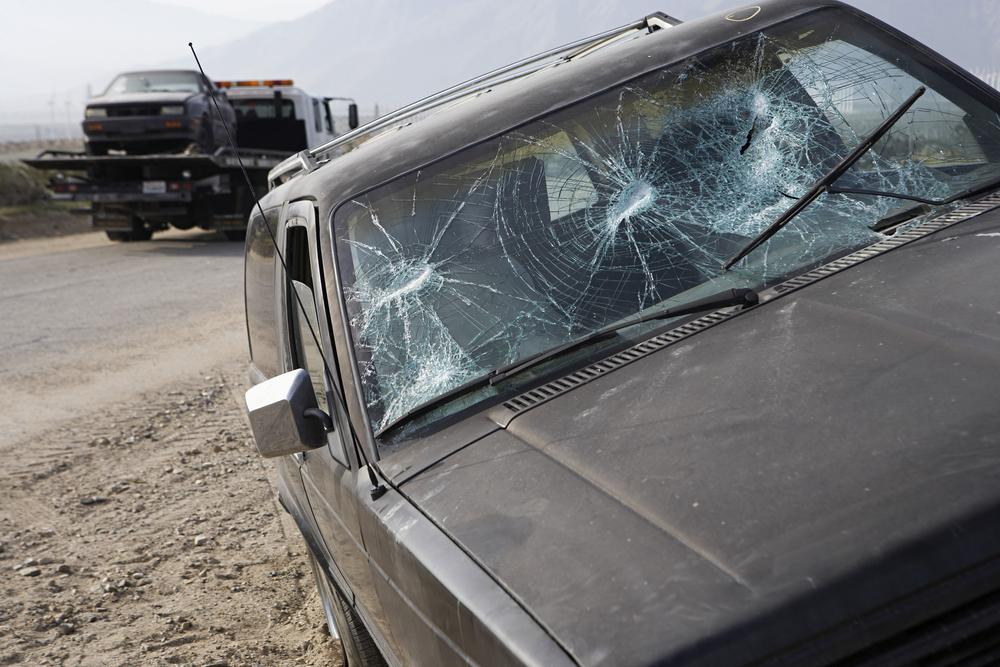glass shatter: (332, 6, 1000, 445)
